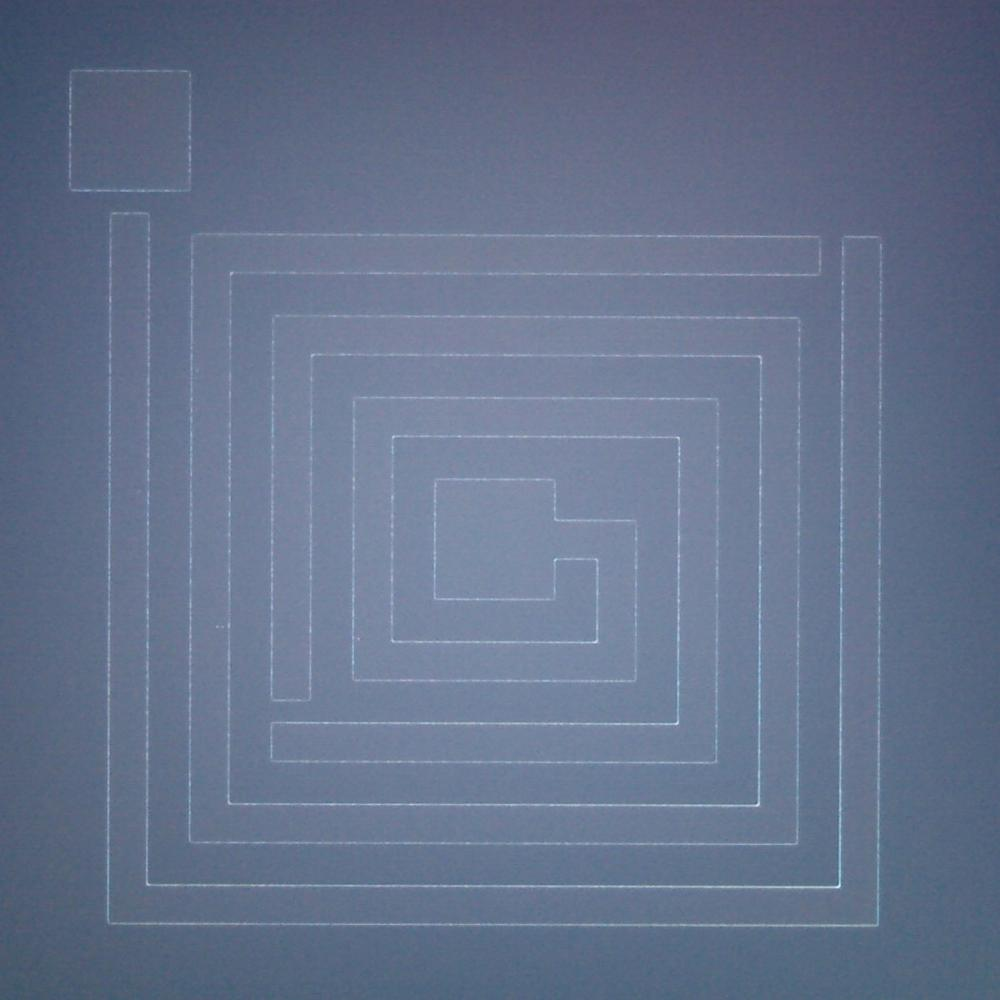dot: (138, 490, 142, 494), (215, 625, 219, 629), (220, 625, 224, 629), (357, 637, 360, 641)
